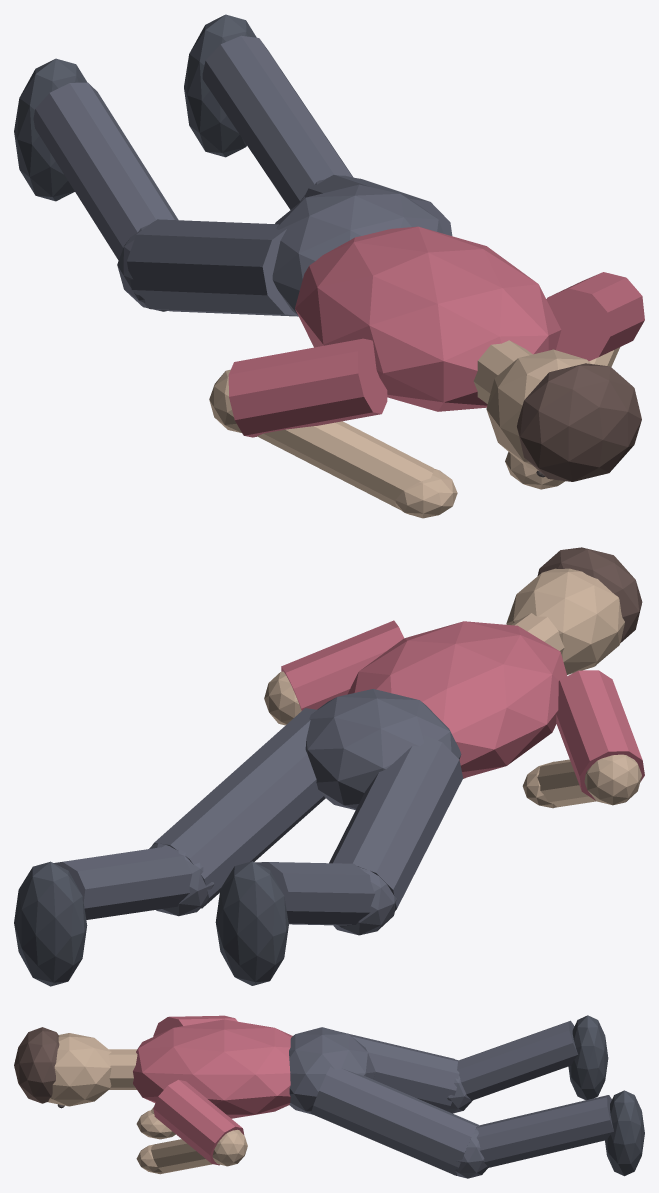
3 renders of one model, top to bottom at view 1: azimuth 30°, elevation 25°; view 2: azimuth 150°, elevation 25°; view 3: azimuth 270°, elevation 25°, orthographic. The views are drawn at different scales.
Parts seen in each view (by area): view 1: world; view 2: world; view 3: world.
Part boxes in pixels (x1=…): world: x1=14, y1=14, x2=644, y2=518; world: x1=14, y1=547, x2=644, y2=986; world: x1=14, y1=1015, x2=644, y2=1178.
Bounding box in the file's own units: 0.93 × 0.435 × 2.
